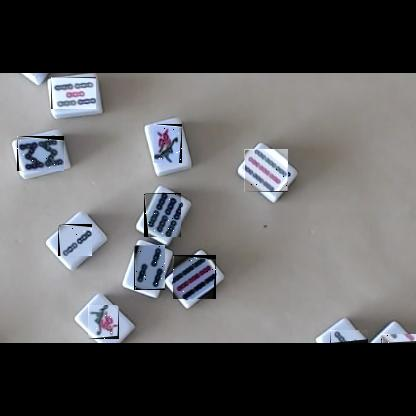1s: (154, 124, 182, 163), (88, 305, 119, 339)
2s: (58, 224, 92, 256)
3s: (134, 245, 165, 290), (330, 330, 368, 343)
5s: (51, 77, 96, 109)
6s: (144, 193, 181, 237)
7s: (381, 334, 416, 343)
8s: (17, 136, 64, 171)
9s: (244, 149, 288, 192), (173, 255, 216, 299)
